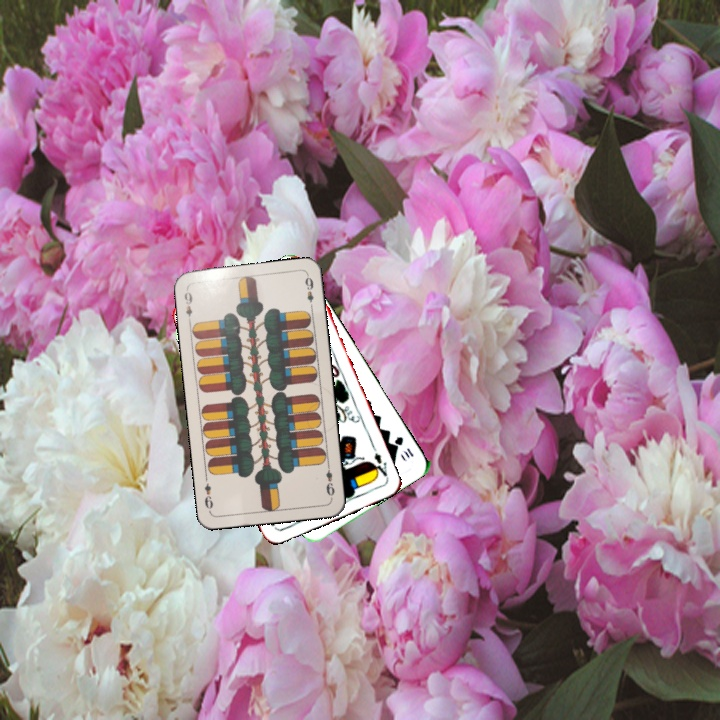E9: (180, 285, 195, 326), (322, 460, 337, 499)
EA: (367, 443, 391, 481)
G10: (390, 432, 416, 462)
